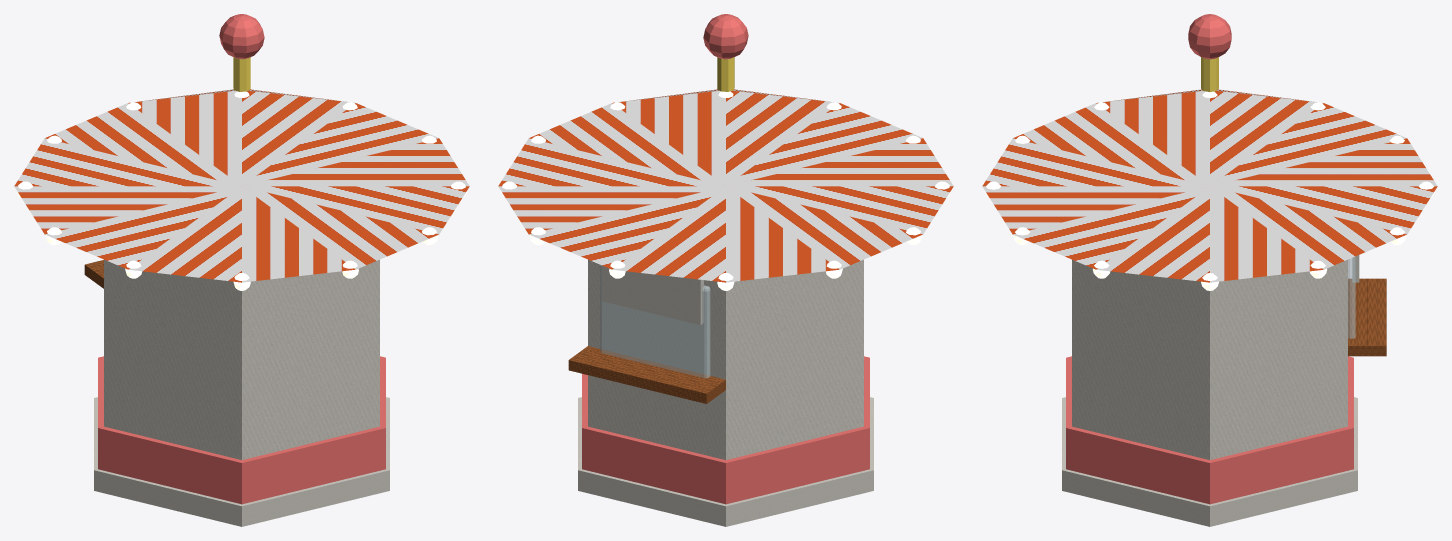
The model's file is theme-park-rides-and-coasters-theme-park-rides-and-coa-e21ffdcc__28675.glb.
3 views of the same model, side by side, from view 1: azimuth 30°, elevation 25°; view 2: azimuth 150°, elevation 25°; view 3: azimuth 270°, elevation 25° (orthographic).
Parts seen in each view (by area): view 1: theme-park-rides-and-coasters-ticket-booth; view 2: theme-park-rides-and-coasters-ticket-booth; view 3: theme-park-rides-and-coasters-ticket-booth.
Part boxes in pixels (bbox=[...]): theme-park-rides-and-coasters-ticket-booth: bbox=[14, 14, 469, 526]; theme-park-rides-and-coasters-ticket-booth: bbox=[498, 14, 953, 526]; theme-park-rides-and-coasters-ticket-booth: bbox=[982, 14, 1437, 526].
Size of the model in its own units: 4 by 4.25 by 4.
Materials: 7 (3 with a texture image).
